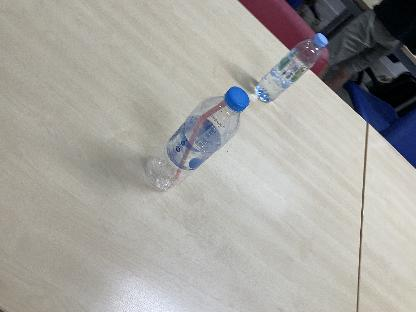Plastic Bottle: (144, 86, 250, 192), (255, 32, 329, 104)
